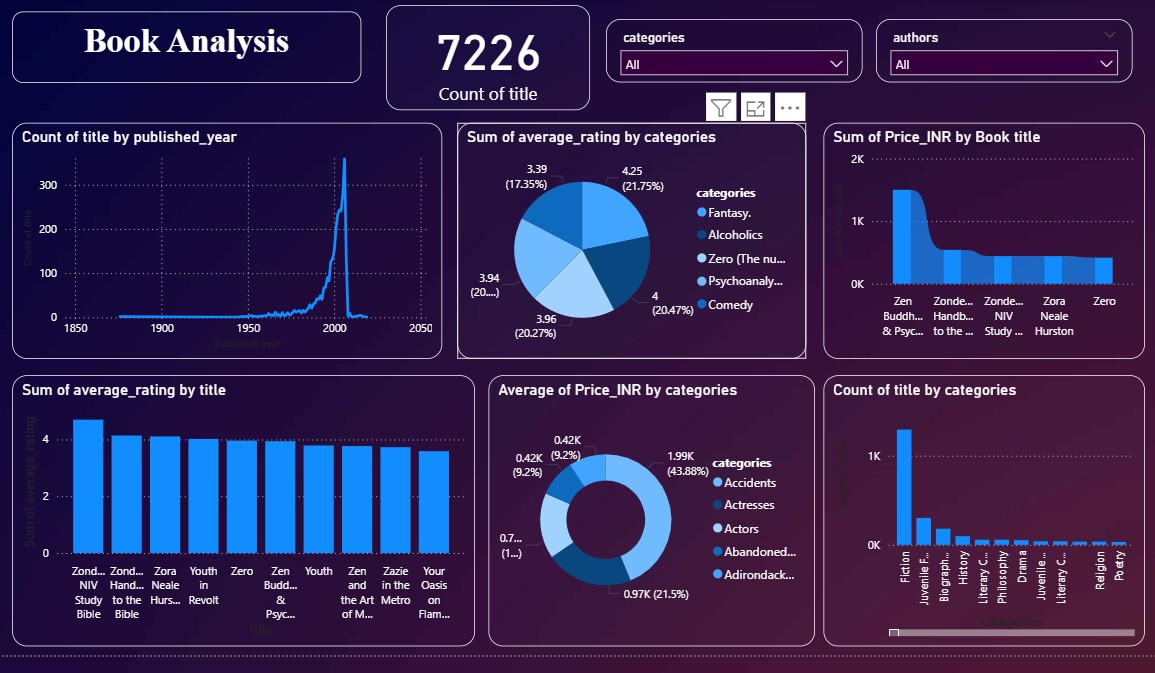

What the dashboard file says about the page in this screenshot:
{"tool":"powerbi","page":{"name":"Page 1","canvas":[1280,720],"ordinal":0},"visuals":[{"type":"textbox","box":[17.8,13.7,382.8,78.2],"z":0},{"type":"clusteredColumnChart","fields":{"Category":["Book Dataset.title"],"Y":["Book Dataset.average_rating"]},"box":[17.8,413,507.7,297.8],"z":1000},{"type":"donutChart","fields":{"Category":["Book Dataset.categories"],"Y":["Book Dataset.Price_INR"]},"box":[540.7,413,358.1,297.8],"z":2000},{"type":"lineChart","fields":{"Y":["Book Dataset.title"],"Category":["Book Dataset.published_year"]},"box":[17.8,135.8,472,259.3],"z":3000},{"type":"slicer","fields":{"Values":["Book Dataset.authors"]},"box":[966,22,281.3,70],"z":4000},{"type":"pieChart","fields":{"Category":["Book Dataset.categories"],"Y":["Book Dataset.average_rating"]},"box":[506.3,135.8,382.8,259.3],"z":5000},{"type":"clusteredColumnChart","fields":{"Y":["Book Dataset.title"],"Category":["Book Dataset.categories"]},"box":[908.4,413,352.7,297.8],"z":6000},{"type":"ribbonChart","title":"Sum of Price_INR by Book title","fields":{"Category":["Book Dataset.title"],"Y":["Book Dataset.Price_INR"]},"box":[908.4,135.8,352.7,259.3],"z":7000},{"type":"card","title":"count of books","fields":{"Values":["Book Dataset.title"]},"box":[428.1,6.9,223.7,115.3],"z":8000},{"type":"slicer","fields":{"Values":["Book Dataset.title"]},"box":[669.6,22,281.3,70],"z":9000}]}

Visuals, with their boxes on the page's 1280x720 design canvas (x1, y1, x2, y2). These are canvas units, not pixel positions in the 1155x673 screenshot, which may show the page scaled, cropped or inside an application window:
textbox: <region>18, 14, 401, 92</region>
clusteredColumnChart - Book Dataset.title x Book Dataset.average_rating: <region>18, 413, 526, 711</region>
donutChart - Book Dataset.categories x Book Dataset.Price_INR: <region>541, 413, 899, 711</region>
lineChart - Book Dataset.title x Book Dataset.published_year: <region>18, 136, 490, 395</region>
slicer - Book Dataset.authors: <region>966, 22, 1247, 92</region>
pieChart - Book Dataset.categories x Book Dataset.average_rating: <region>506, 136, 889, 395</region>
clusteredColumnChart - Book Dataset.title x Book Dataset.categories: <region>908, 413, 1261, 711</region>
"Sum of Price_INR by Book title" ribbonChart: <region>908, 136, 1261, 395</region>
"count of books" card: <region>428, 7, 652, 122</region>
slicer - Book Dataset.title: <region>670, 22, 951, 92</region>
